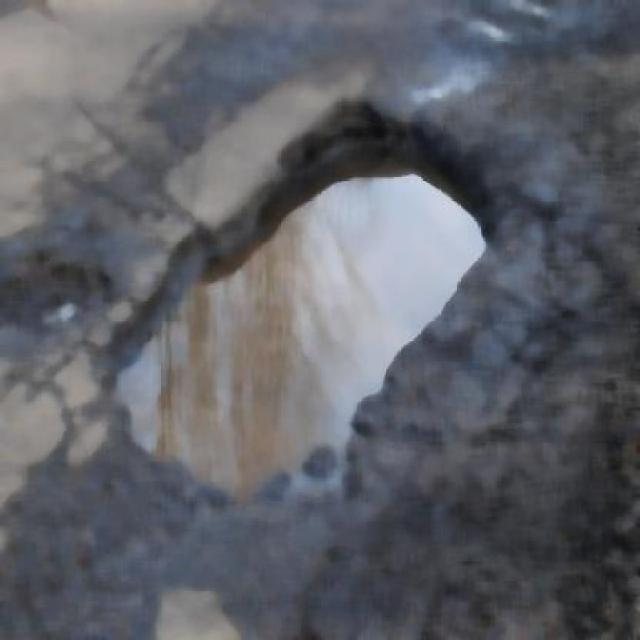Pothole: (108, 123, 488, 455)
